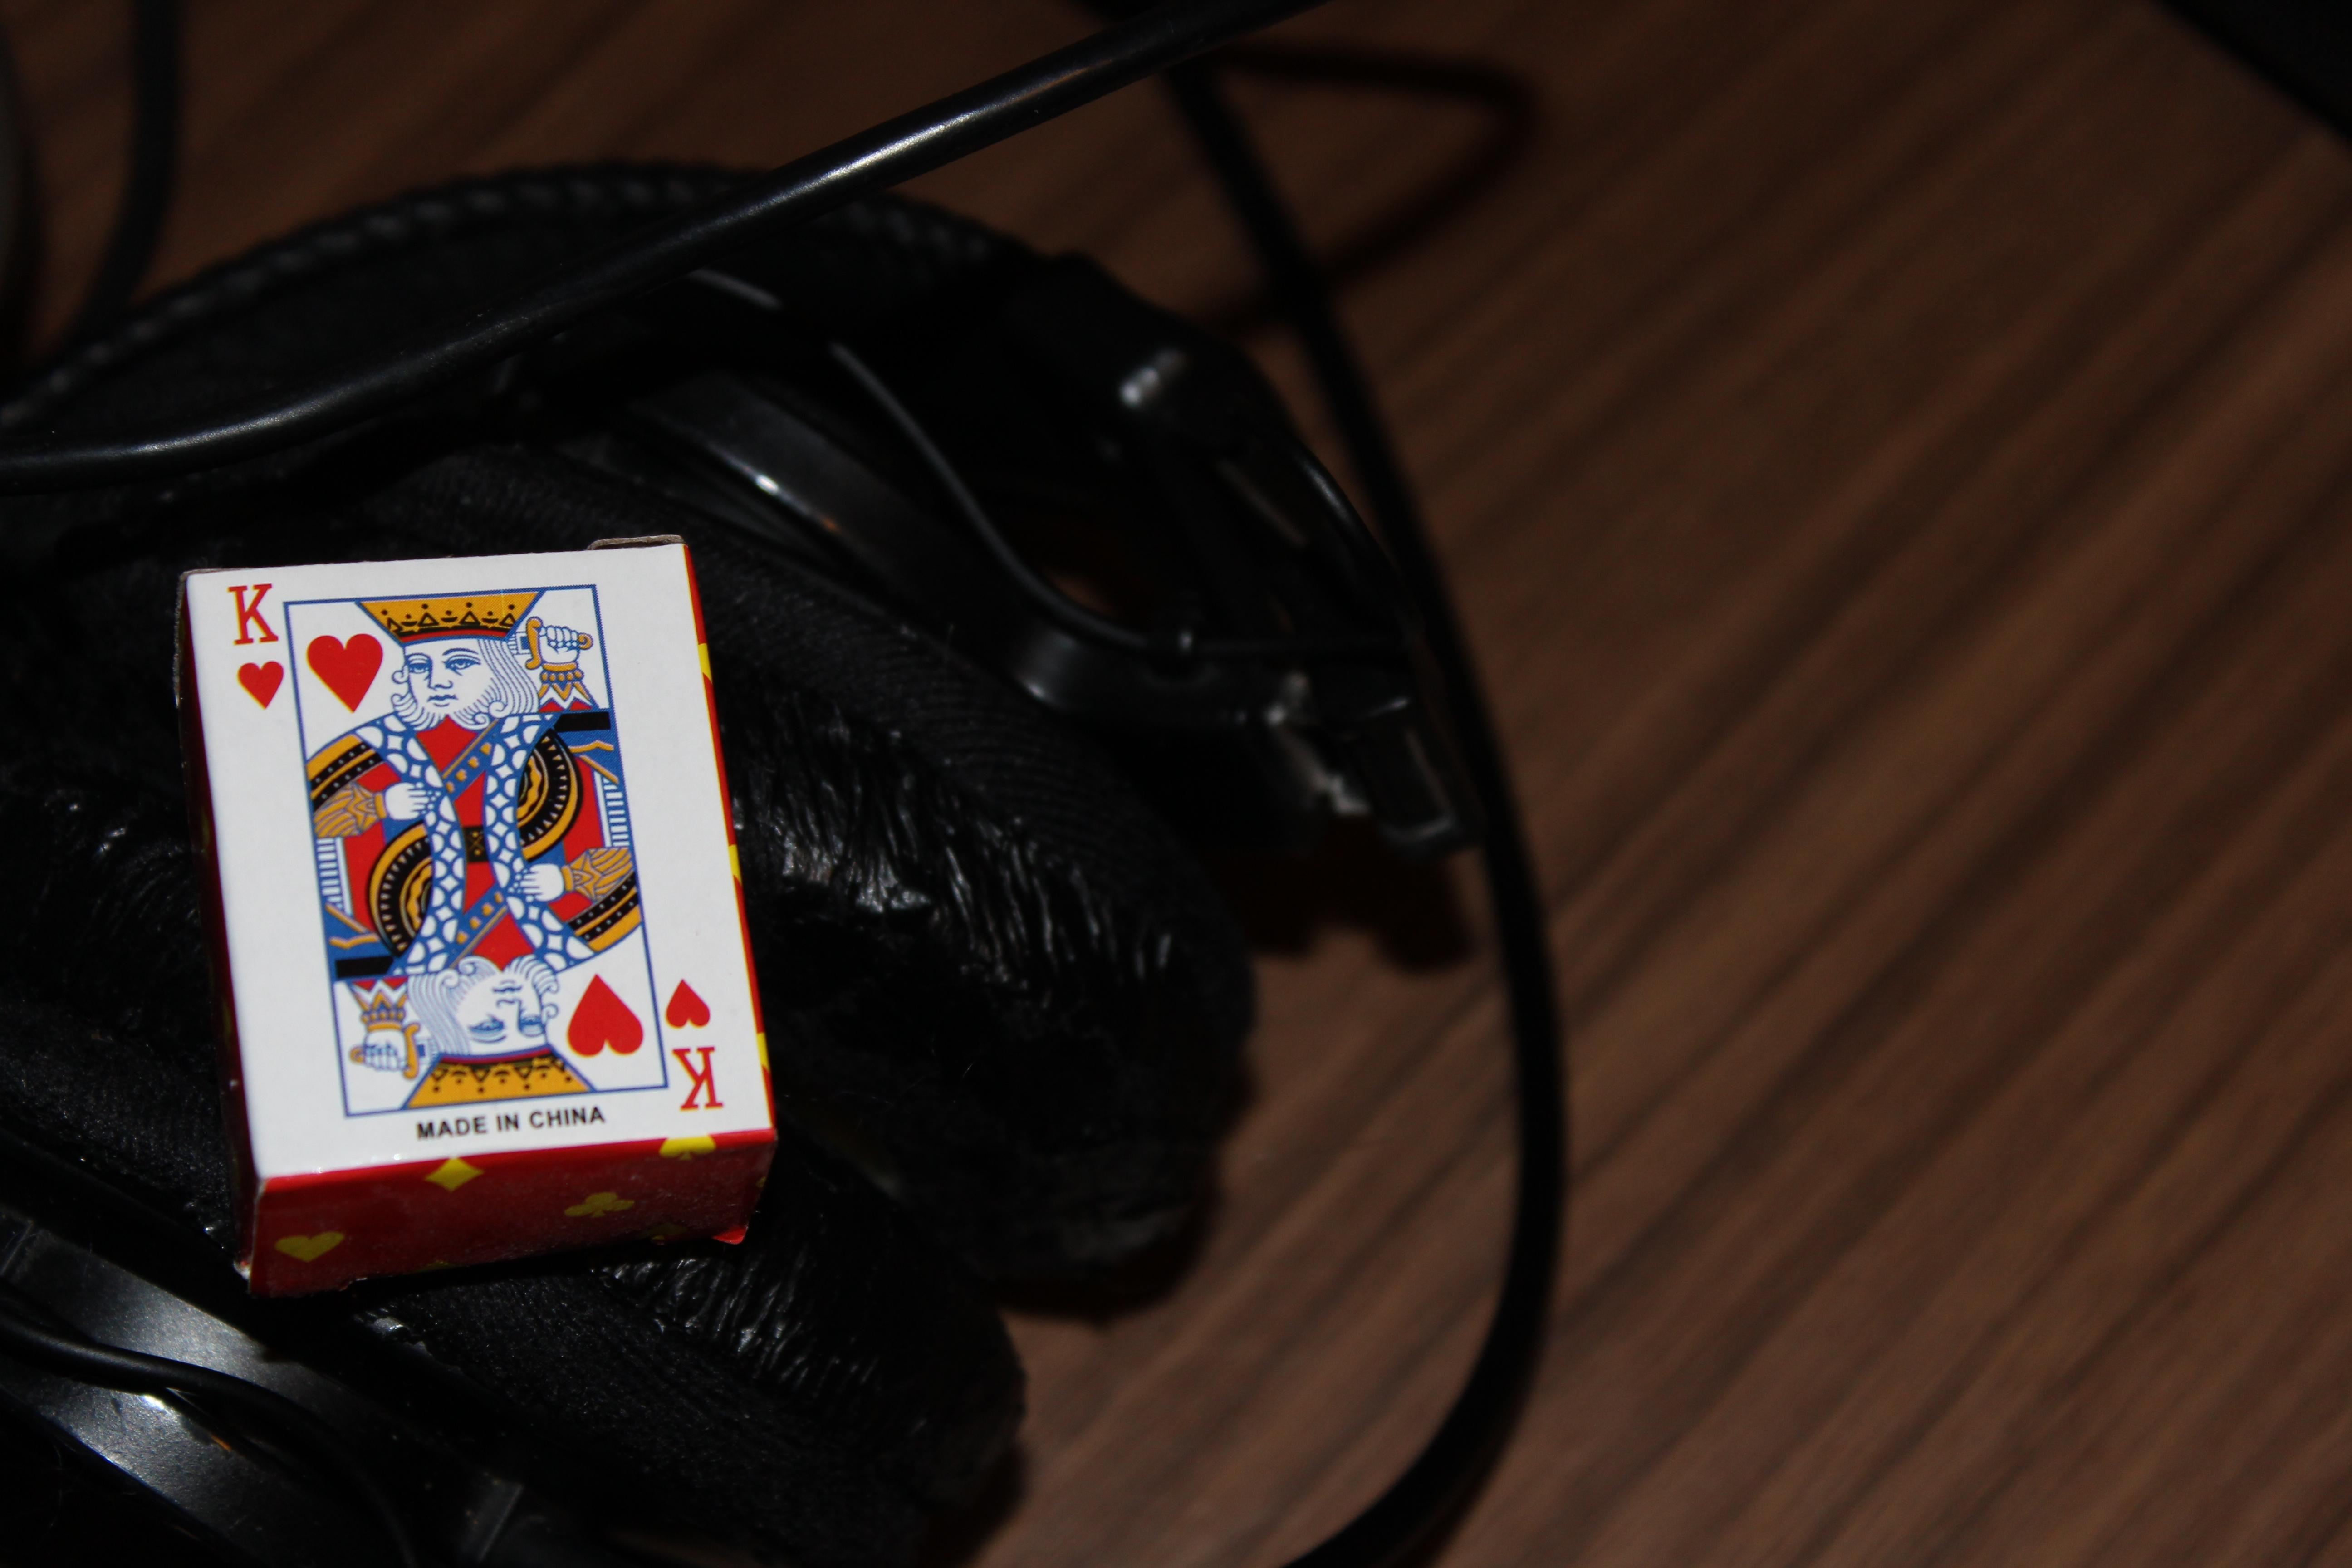miniCards: (129, 504, 821, 1321)
